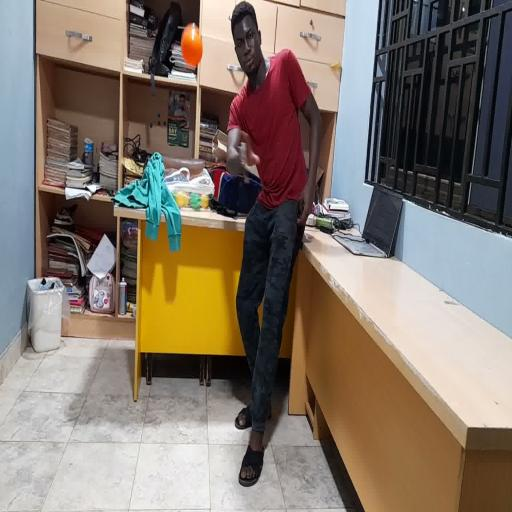plastic-ball: (178, 20, 205, 71)
